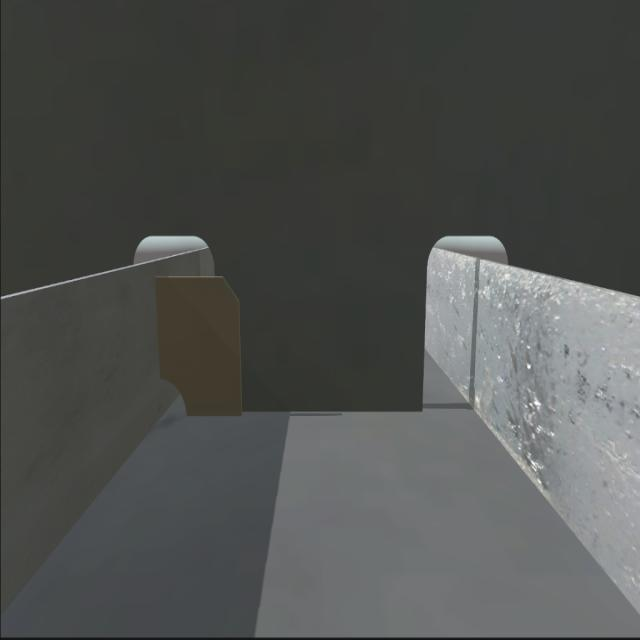fillet_hole: (160, 376, 188, 415)
fillet_yong_jeop_jang: (184, 402, 434, 423)
longi_yong_jeop_jang: (153, 270, 165, 388)
plate_CP03: (155, 276, 243, 421)
